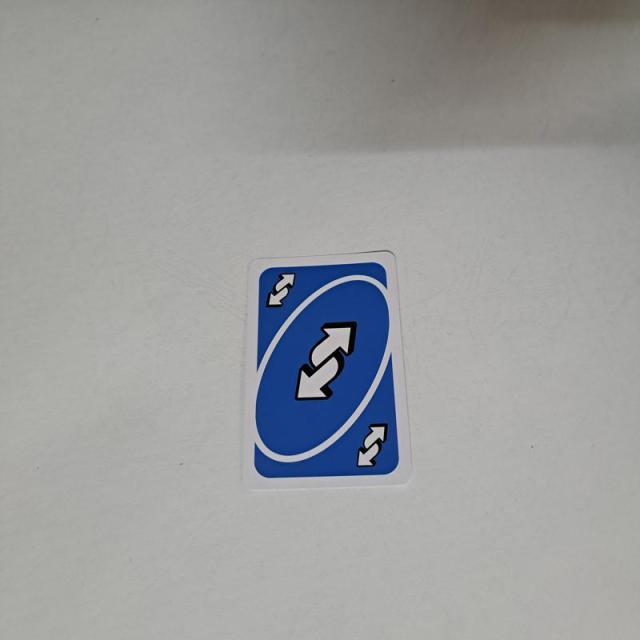Blue_Card: (249, 258, 402, 482)
Reverse: (263, 266, 299, 312)
